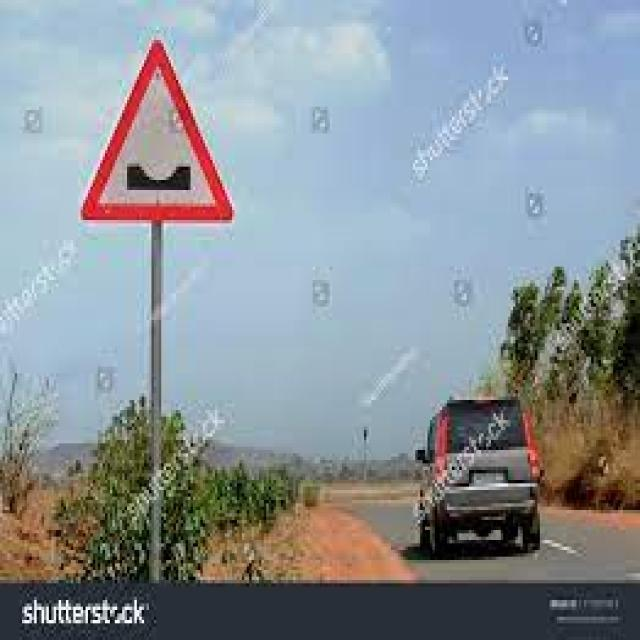dangerous dip: (83, 41, 235, 227)
